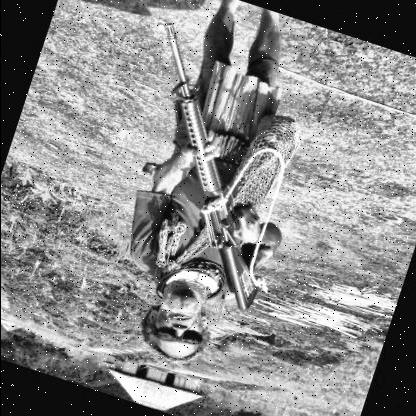rifle: (88, 20, 330, 316)
